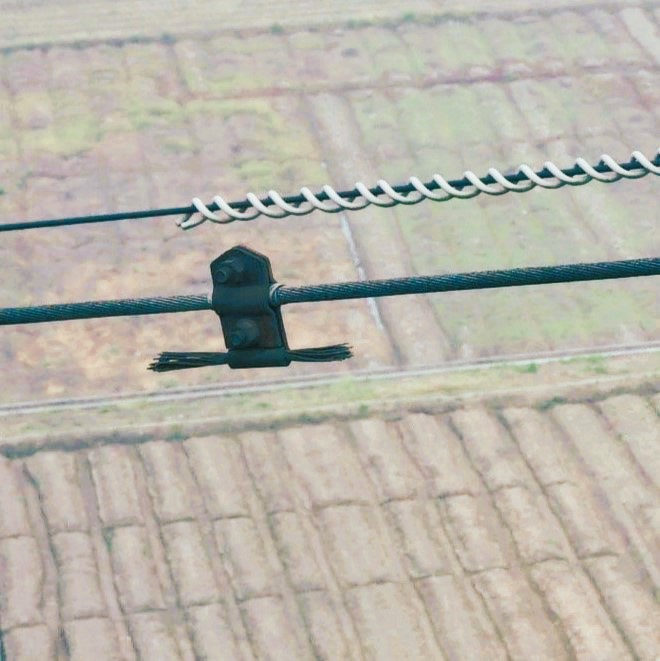Damage of shockproof hammer: (139, 238, 373, 390)
